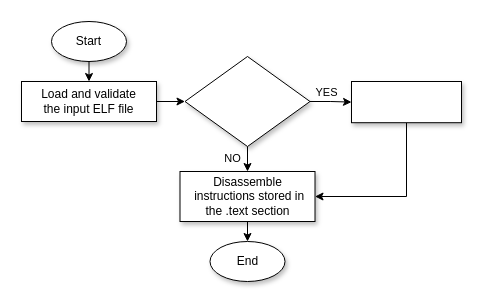
The diagram is 485 pixels wide and 306 high, and some of its shapes have lost their labels. Each missing label, with the centre of its shape:
"Map all segments into RAM" goes at [407,103].
"Should the ELF file be treated as a kernel?" goes at [248,103].
